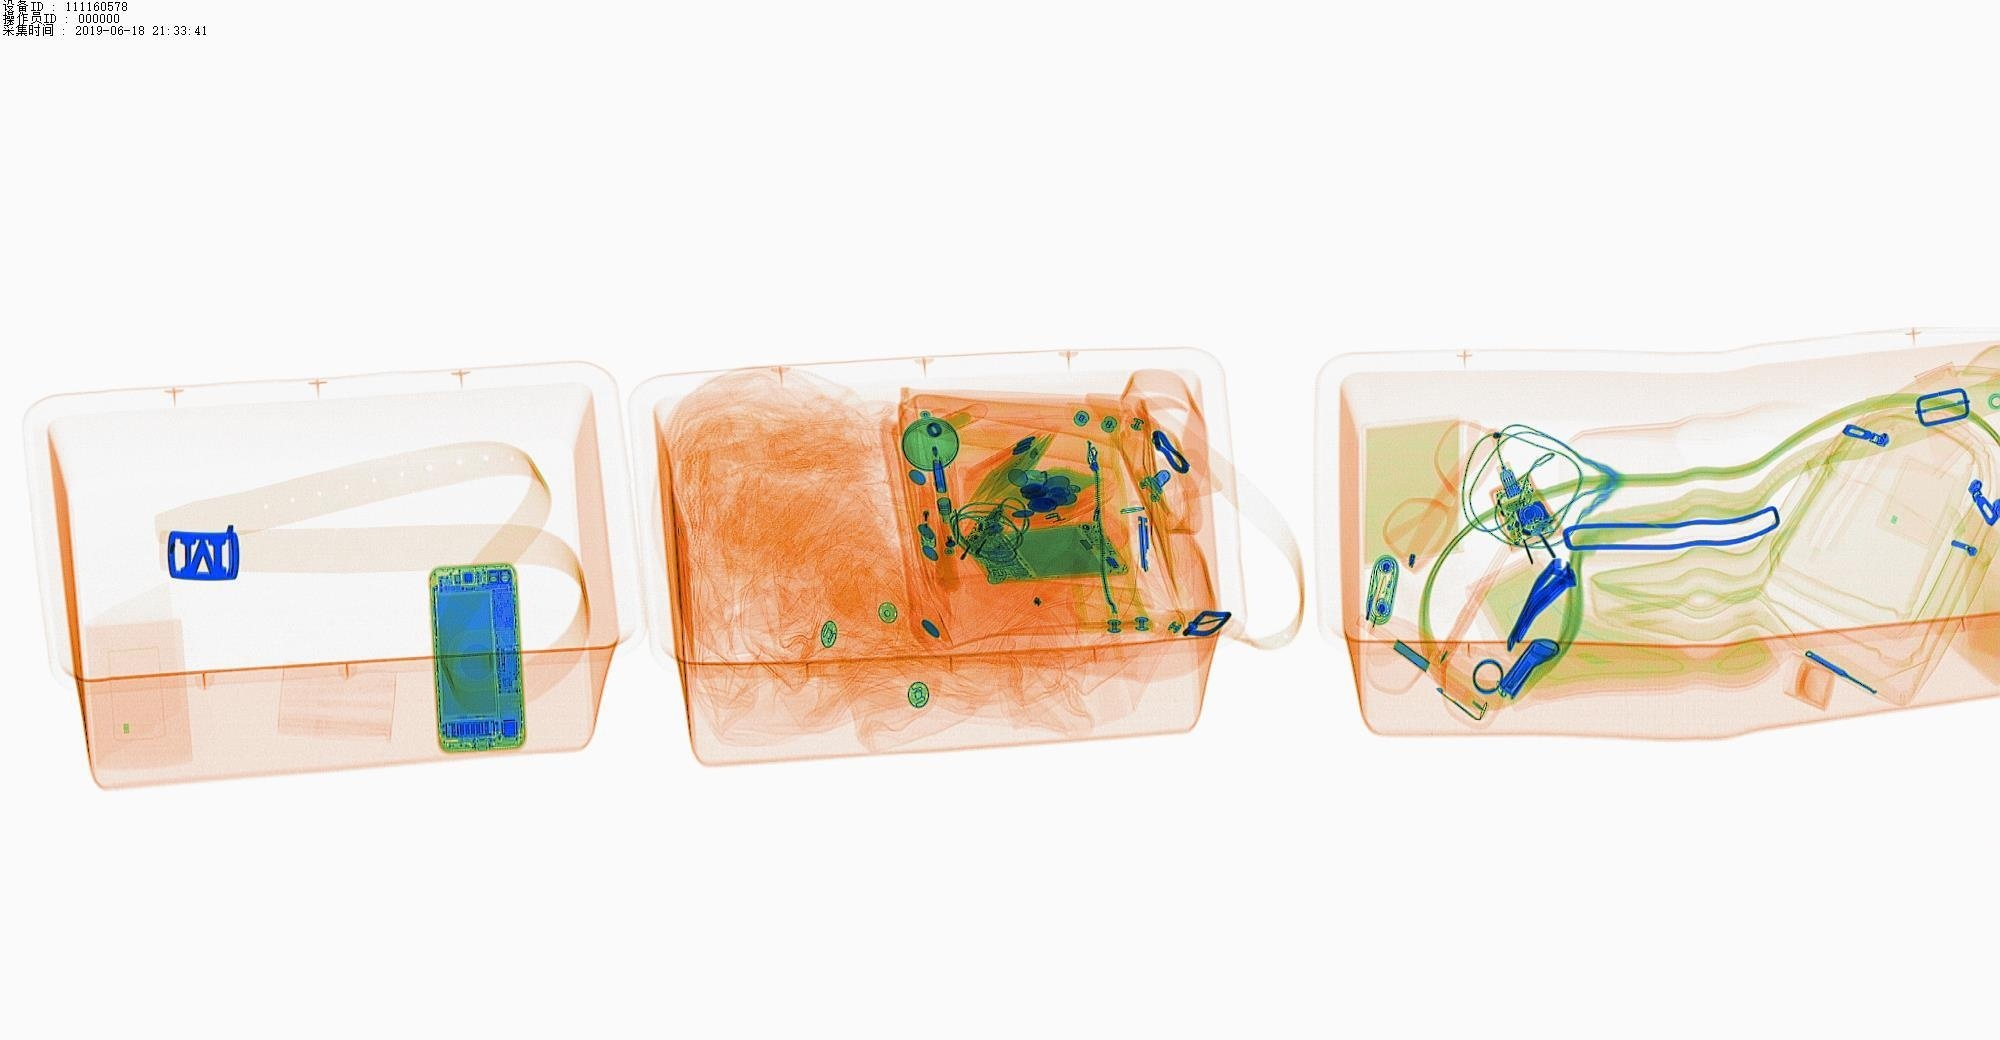NonmetallicFire: (906, 474, 955, 591)
